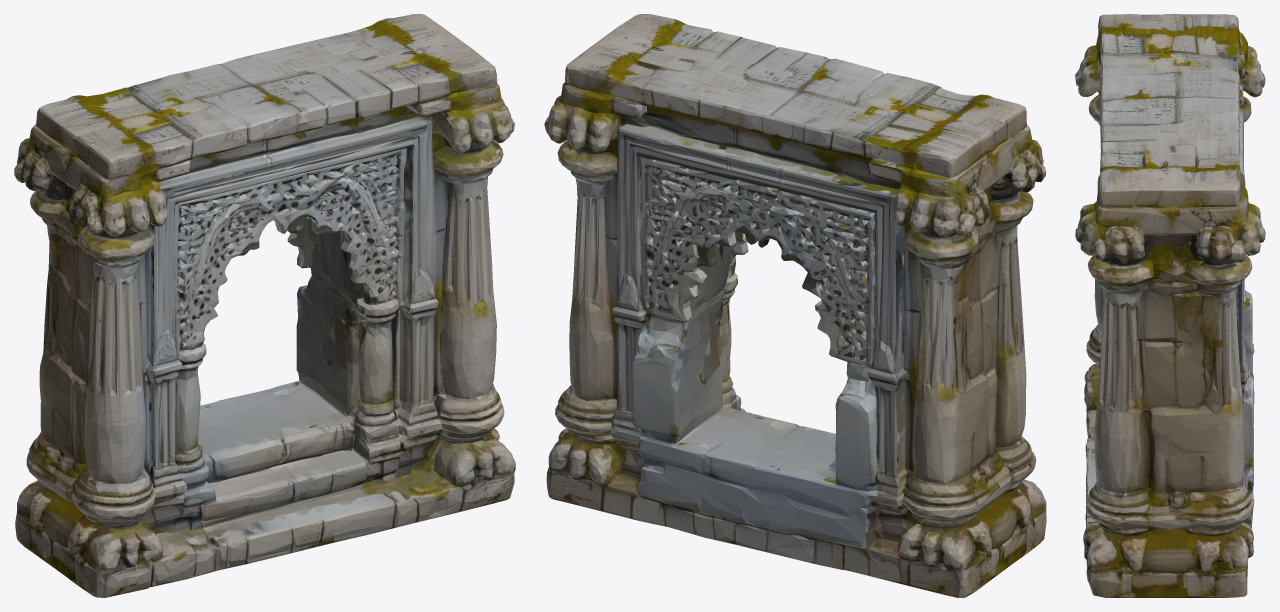
Rendered from jali-perforated-stone-window-optimized.glb.
3 renders of one model, left to right at view 1: azimuth 30°, elevation 25°; view 2: azimuth 150°, elevation 25°; view 3: azimuth 270°, elevation 25°, orthographic. The views are drawn at different scales.
Visible parts, largest first — view 1: 104047a3-4fea-4ae7-8b79-85664f8692ee_texturing.obj; view 2: 104047a3-4fea-4ae7-8b79-85664f8692ee_texturing.obj; view 3: 104047a3-4fea-4ae7-8b79-85664f8692ee_texturing.obj.
Part boxes in pixels (left/top/right/bottom): 104047a3-4fea-4ae7-8b79-85664f8692ee_texturing.obj: left=14, top=14, right=515, bottom=597; 104047a3-4fea-4ae7-8b79-85664f8692ee_texturing.obj: left=544, top=14, right=1046, bottom=597; 104047a3-4fea-4ae7-8b79-85664f8692ee_texturing.obj: left=1075, top=14, right=1265, bottom=597.
Size of the model in its own units: 2.5 by 2.43 by 1.04.
Materials: 1 (1 with a texture image).
